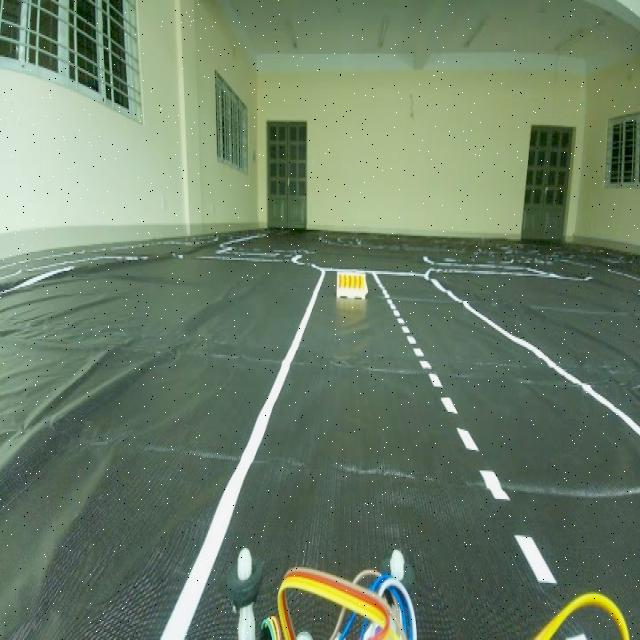roadblock: (332, 268, 374, 298)
